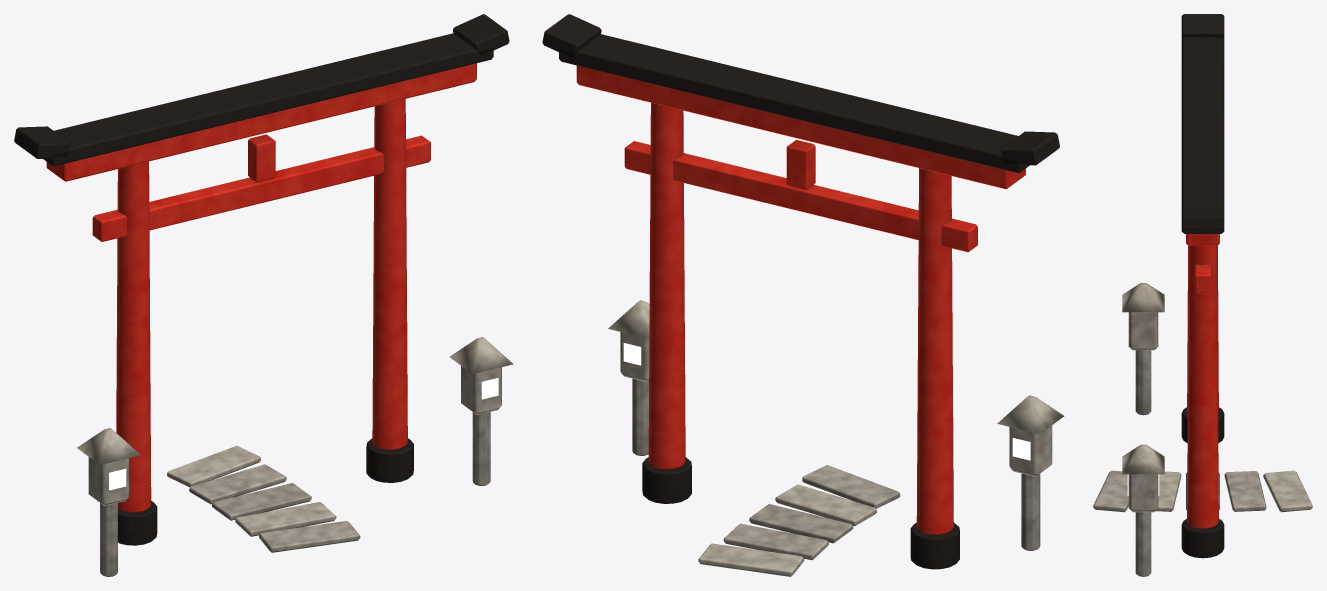
File: torii_gate.glb
3 renders of one model, left to right at view 1: azimuth 30°, elevation 25°; view 2: azimuth 150°, elevation 25°; view 3: azimuth 270°, elevation 25°, orthographic. The views are drawn at different scales.
Parts seen in each view (by area): view 1: torii_gate; view 2: torii_gate; view 3: torii_gate.
Boxes of the visible parts, box(x1,y1,x2,y2) form: torii_gate: box(14, 14, 513, 576); torii_gate: box(542, 14, 1064, 576); torii_gate: box(1093, 14, 1312, 576).
Bounding box in the file's own units: 2.29 × 1.97 × 1.03.
Materials: 1 (1 with a texture image).
